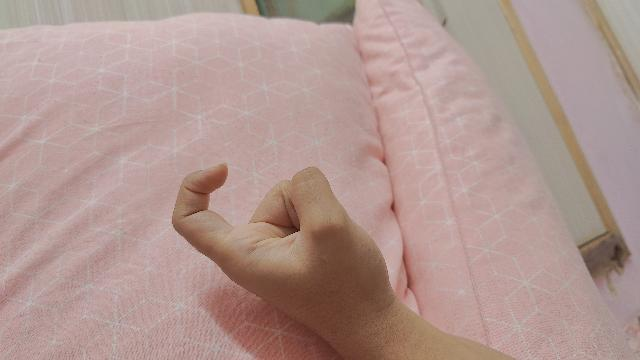tamrachud: (172, 164, 519, 360)
